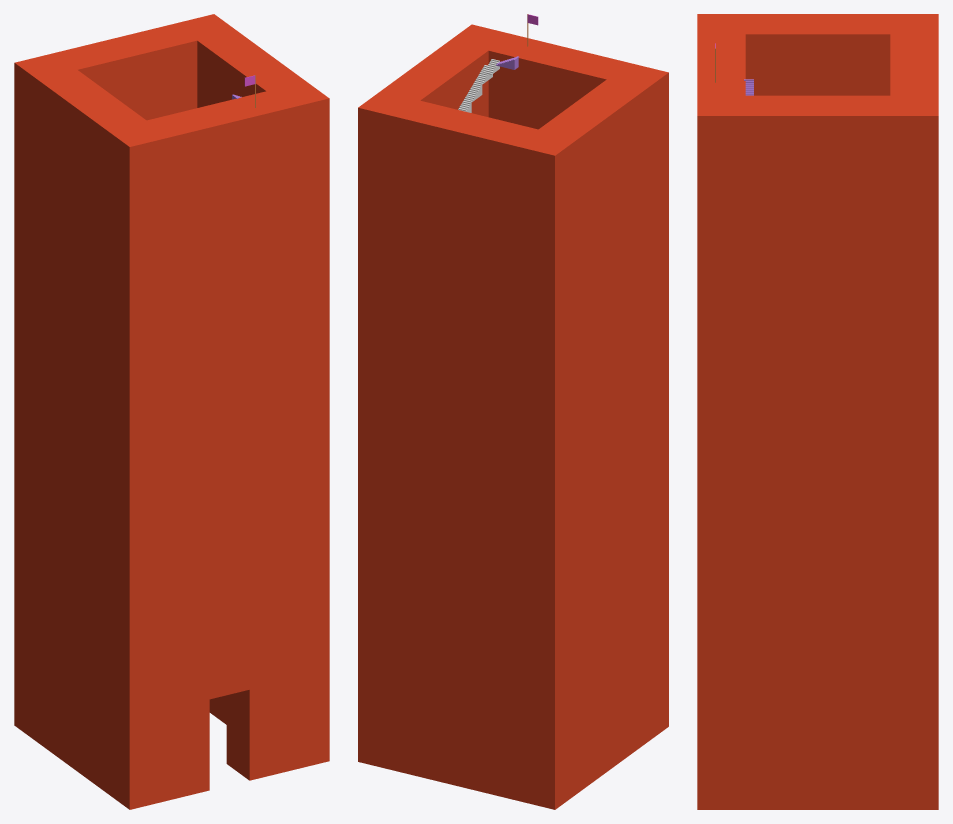
The model's file is tower fixed.fbx.
3 renders of one model, left to right at view 1: azimuth 30°, elevation 25°; view 2: azimuth 150°, elevation 25°; view 3: azimuth 270°, elevation 25°, orthographic. The views are drawn at different scales.
Visible parts, largest first — view 1: Cube.014; view 2: Cube.014; view 3: Cube.014.
Boxes of the visible parts, x1,y1,x2,y2 form: Cube.014: (14,14,329,809); Cube.014: (358,24,668,809); Cube.014: (697,14,938,809).
Size of the model in its own units: 4916 by 4916 by 16372.
